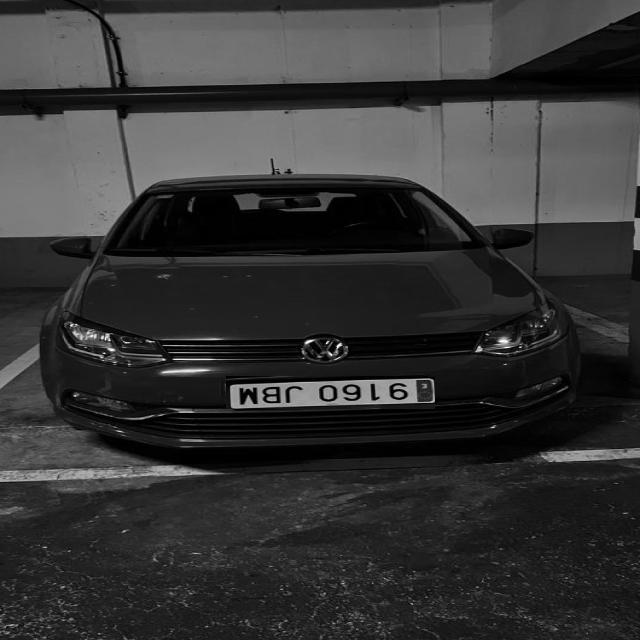License-Plate: (225, 375, 435, 409)
